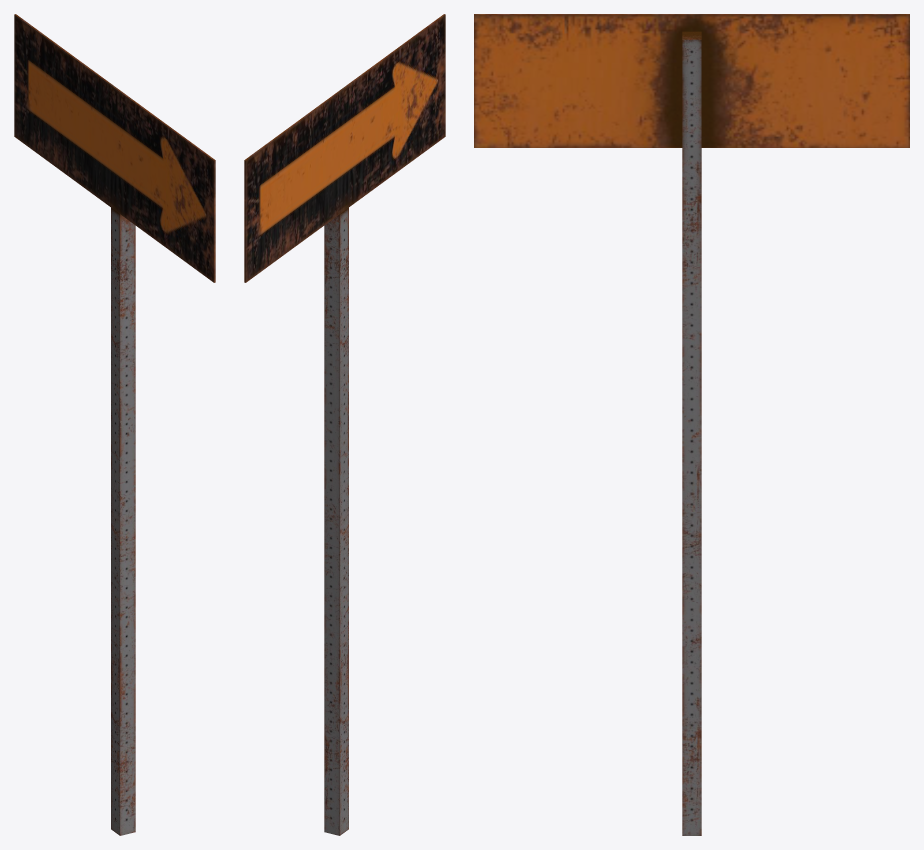
Rendered from Sign2.fbx.
The picture shows the model from 3 angles, left to right: view 1: azimuth 30°, elevation 25°; view 2: azimuth 150°, elevation 25°; view 3: azimuth 270°, elevation 25°; orthographic projection. The views are drawn at different scales.
Visible parts, largest first — view 1: pCube101; view 2: pCube101; view 3: pCube101.
Boxes of the visible parts, x1,y1,x2,y2 form: pCube101: [14, 14, 215, 835]; pCube101: [244, 14, 445, 835]; pCube101: [474, 14, 909, 835].
Size of the model in its own units: 0.0582 by 1.18 by 2.43.
